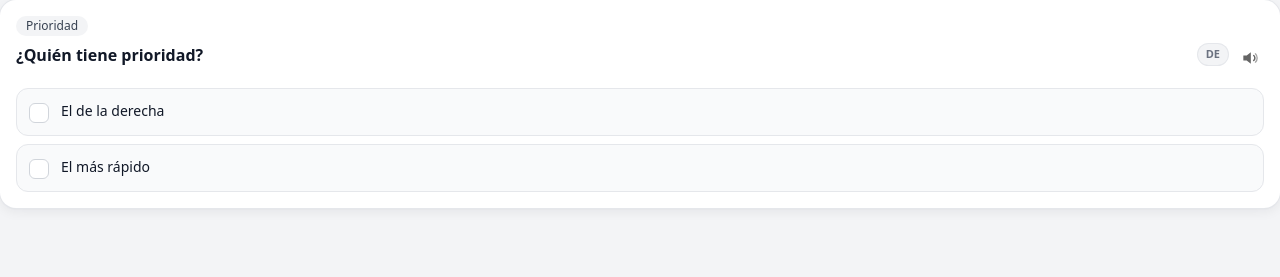
Test: QuestionCard: texto original en alemán › no muestra el alemán por defecto y lo muestra al activar el interruptor
The width and height of the screenshot is (1280, 277).
Expected: the text "Wer hat Vortritt?" is not shown
Click the button with aria-label "Mostrar el texto original en alemán". click: point(1213, 54)
box: 1198,44 -> 1228,64
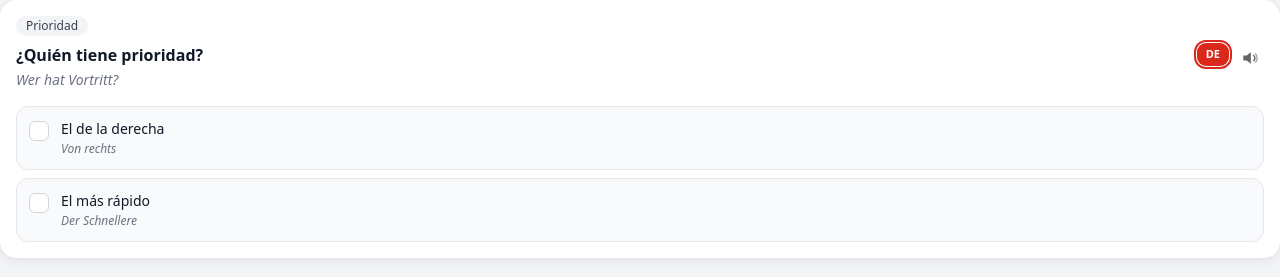
Result: the text "Wer hat Vortritt?" is shown at 16,70 -> 118,89
Result: the text "Von rechts" is shown at 61,140 -> 116,157
